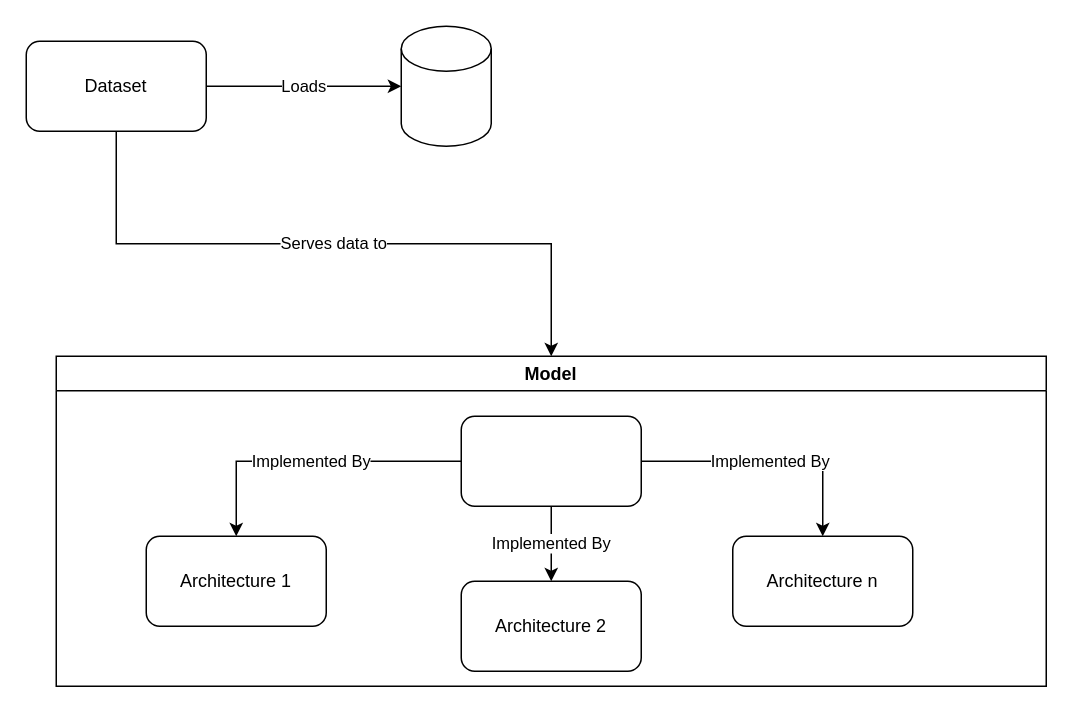
Some shapes in this 1073 by 713 pixel diagram are drawn without their labels. Here are the shapes that lost their labels. From the top down, the centre of each, then its label:
point 445,85: Database
point 550,460: Base Model
